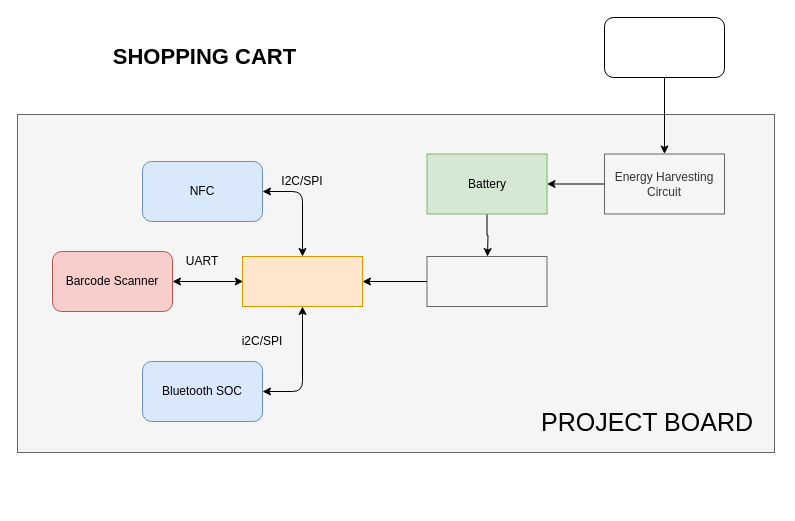
Some shapes in this 795 by 521 pixel diagram are drawn without their labels. The centre of each missing label's shape, as x and y in pixels:
Power Management: (486,281)
Processor: (302,281)
WHEELS: (664,47)
